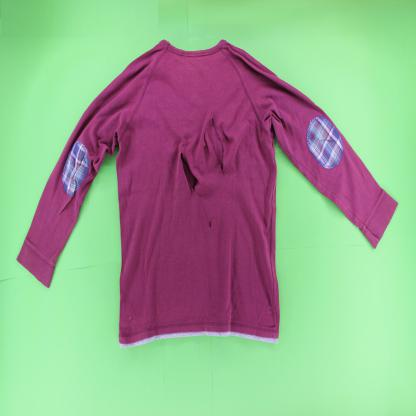hole: (207, 112, 226, 178), (178, 149, 202, 195)
